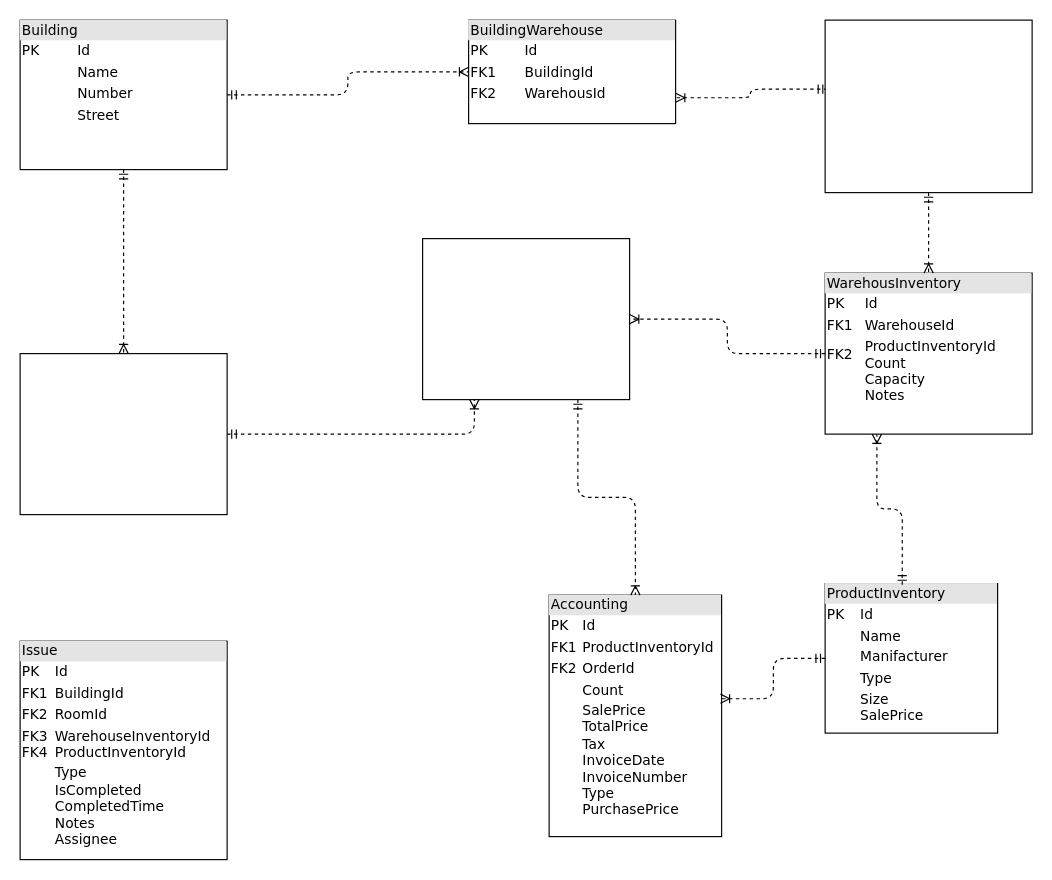
This 1052x880 diagram has some shape labels left out. The shapes that lost their labels are listed below. From the top down, each one's box as (x1, y1, x2, y2) in pixels, then its label:
(824, 19, 1032, 193): Warehouse PK Id FK1 BuildingId Name Number Floor Capacity Content Notes
(421, 237, 630, 400): SaleOrder PK Id FK1 RoomId FK2 WarehouseInventoryId Count IsCompleted Notes
(19, 352, 227, 515): Room PK Id FK1 BuildingId Number Floor Capacity HasMinibar Notes
